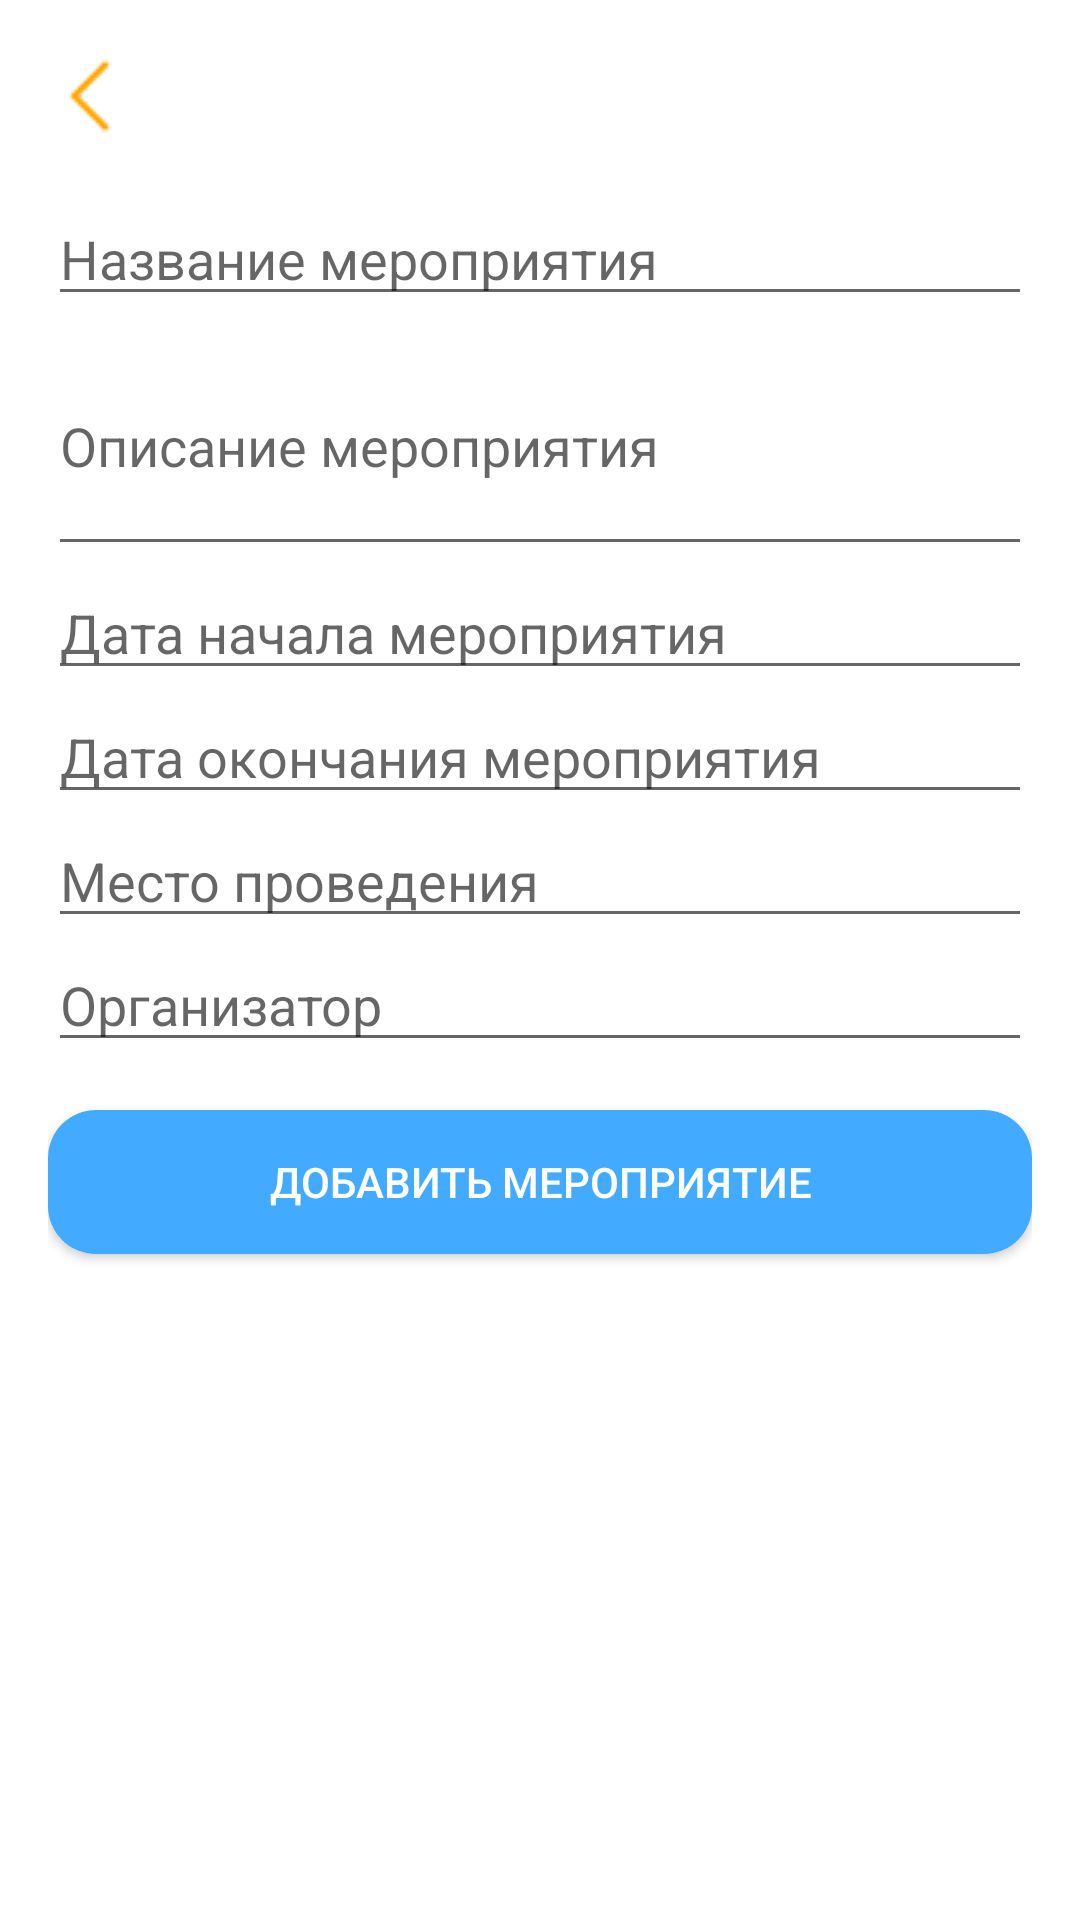

Screen size 1080 × 1920. Icon name, then its box in pixels as bbox(x1, y1, x2, y2):
Назад: bbox(69, 60, 111, 132)
